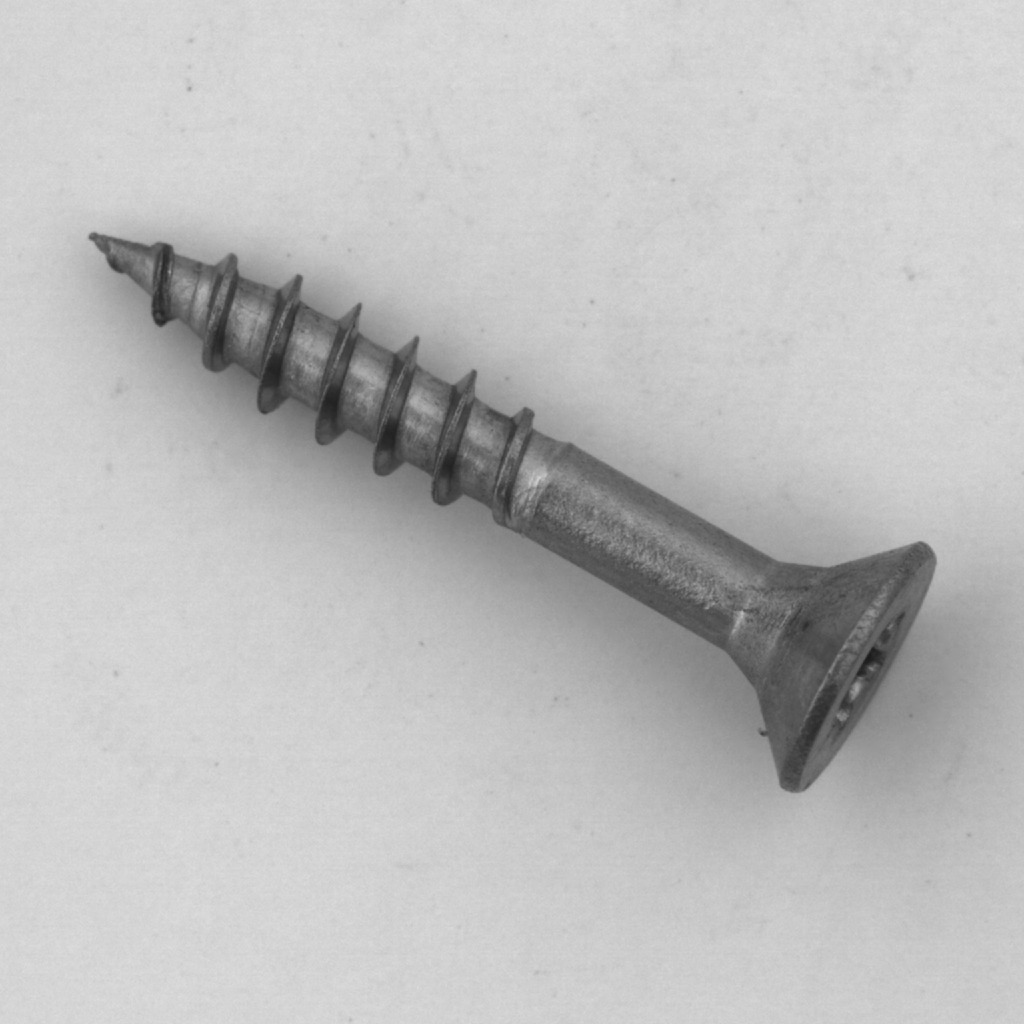good: (66, 205, 951, 813)
